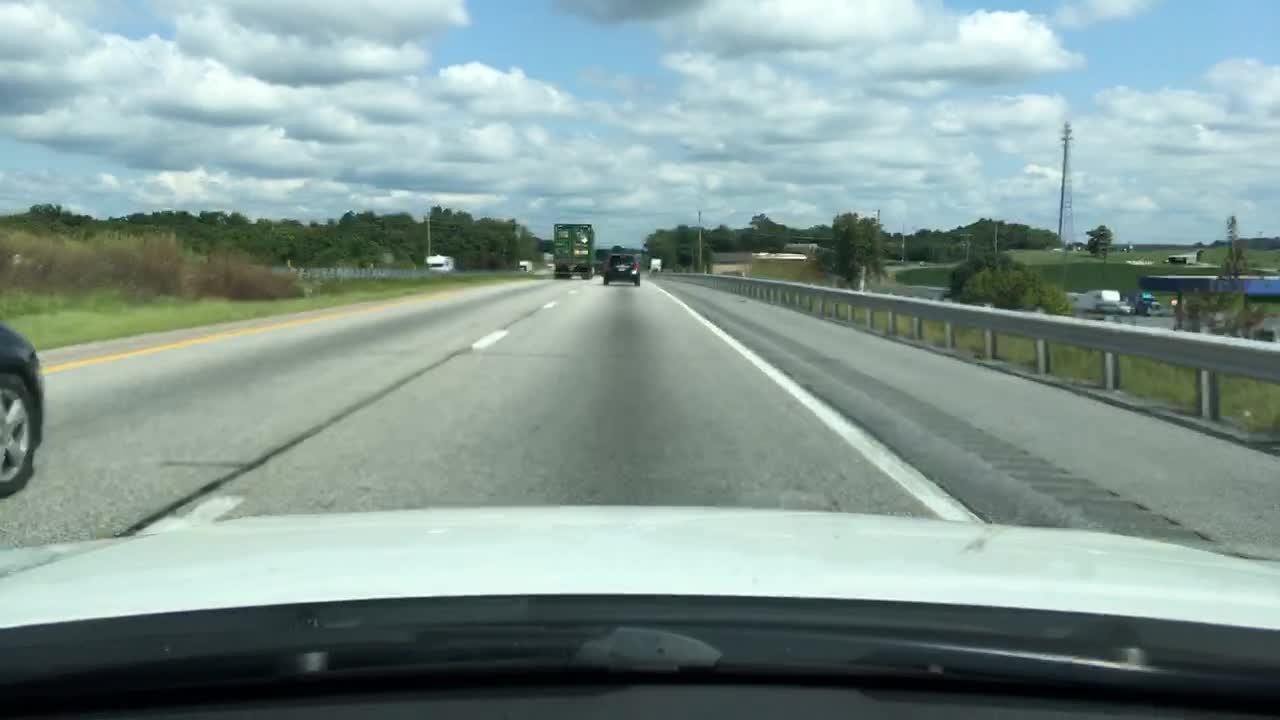car: (1, 316, 44, 506), (601, 244, 640, 286)
truck: (550, 219, 596, 280), (421, 252, 455, 270), (647, 254, 661, 272), (519, 258, 531, 272)
